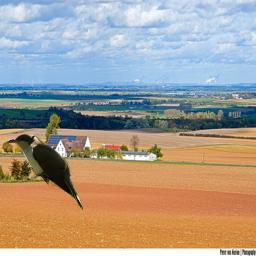Cuckoo: (5, 134, 83, 211)
